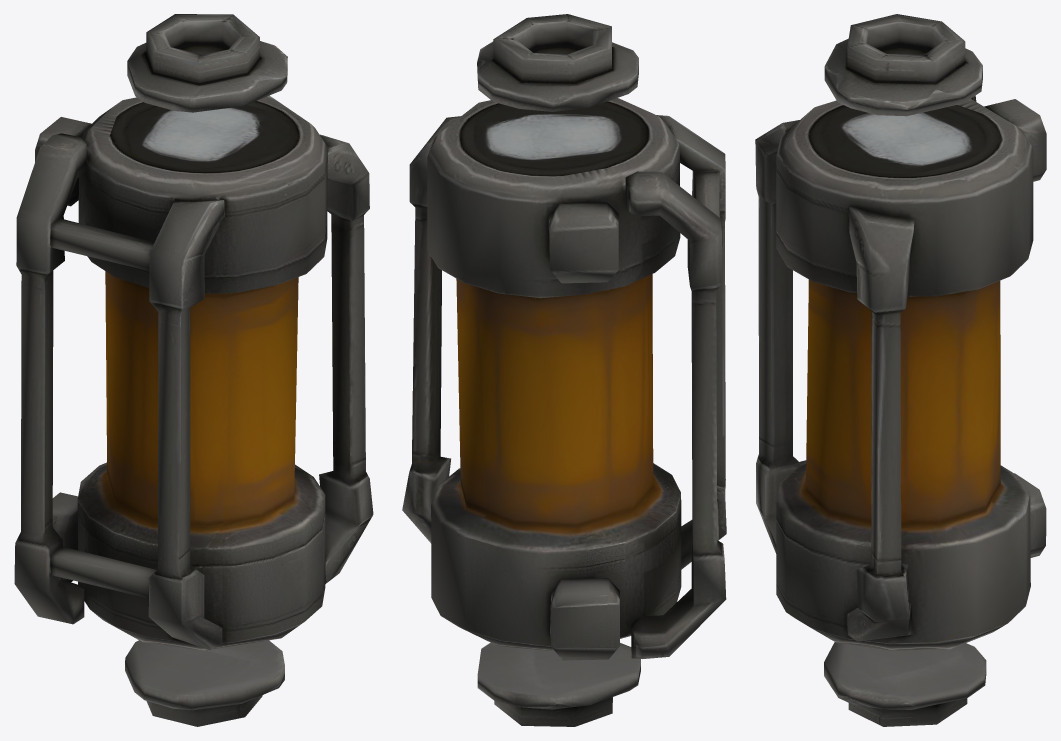
The model's file is cold-iron-v2-battery-a-cell.glb.
3 renders of one model, left to right at view 1: azimuth 30°, elevation 25°; view 2: azimuth 150°, elevation 25°; view 3: azimuth 270°, elevation 25°, orthographic.
Parts seen in each view (by area): view 1: tripo_node_1c61e226-b41e-4761-b581-3d57a82f3ec6; view 2: tripo_node_1c61e226-b41e-4761-b581-3d57a82f3ec6; view 3: tripo_node_1c61e226-b41e-4761-b581-3d57a82f3ec6.
Part boxes in pixels (bbox=[...]): tripo_node_1c61e226-b41e-4761-b581-3d57a82f3ec6: bbox=[14, 14, 373, 726]; tripo_node_1c61e226-b41e-4761-b581-3d57a82f3ec6: bbox=[402, 14, 726, 726]; tripo_node_1c61e226-b41e-4761-b581-3d57a82f3ec6: bbox=[755, 14, 1046, 726].
Size of the model in its own units: 0.5292 by 0.9986 by 0.3973.
1 material, 1 textured.
